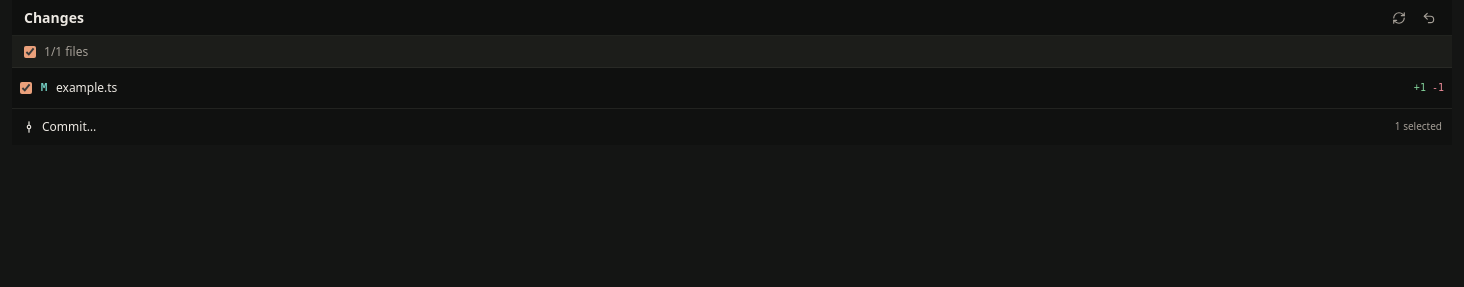
Scenario: ChangesRail commit flow › keeps the commit form collapsed until requested
Expected: the field with placeholder "Commit message" is not shown
Click the button "Commit… 1 selected": [69, 126] box [12,109,1452,145]
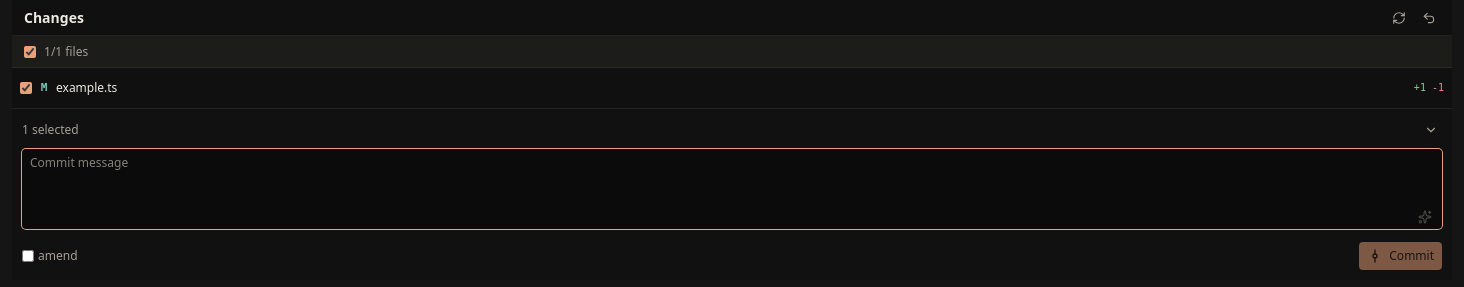
Expected: the text box with placeholder "Commit message" is shown, [22,149,1442,229]
